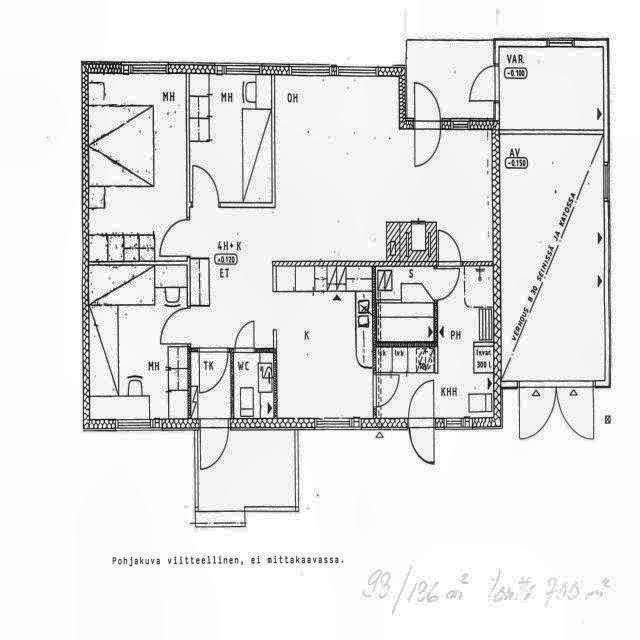room: (501, 138, 603, 381), (89, 73, 187, 261), (90, 266, 187, 419), (190, 73, 271, 201), (499, 47, 604, 130), (375, 267, 433, 342), (437, 266, 493, 342), (191, 352, 230, 417), (234, 353, 273, 417), (282, 0, 294, 2)
